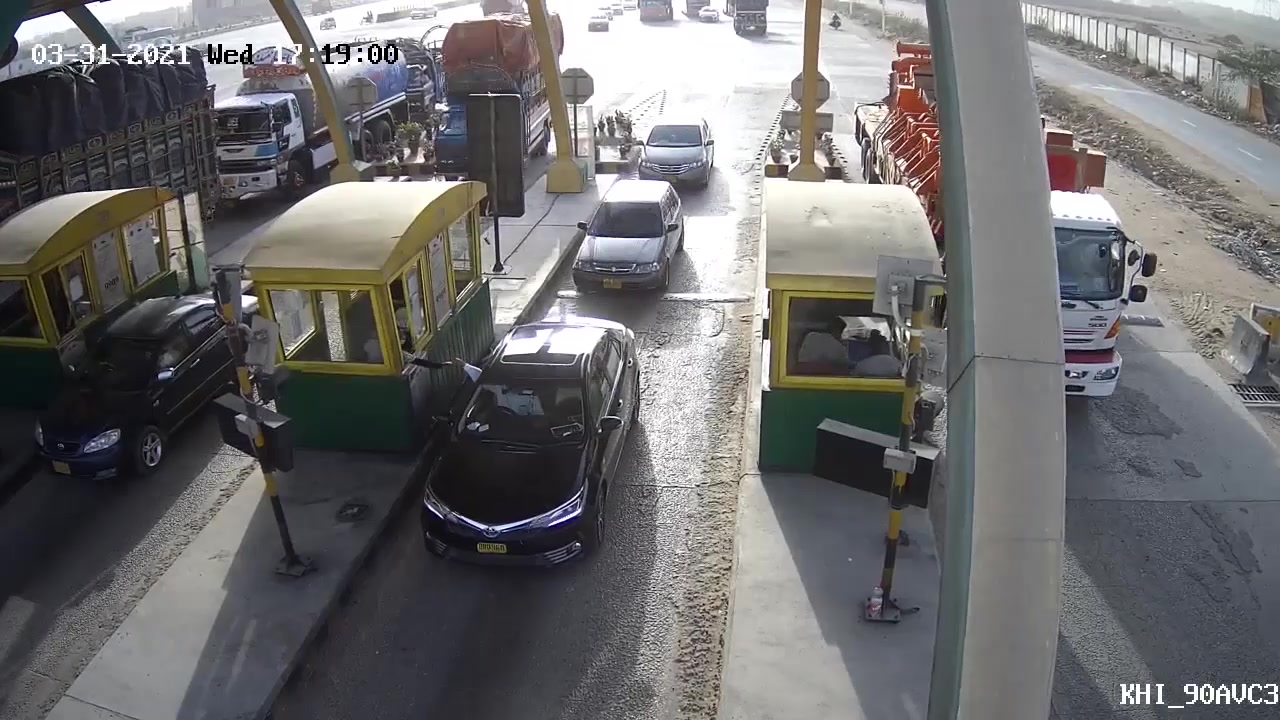F1: (413, 309, 664, 604), (568, 173, 691, 312)
